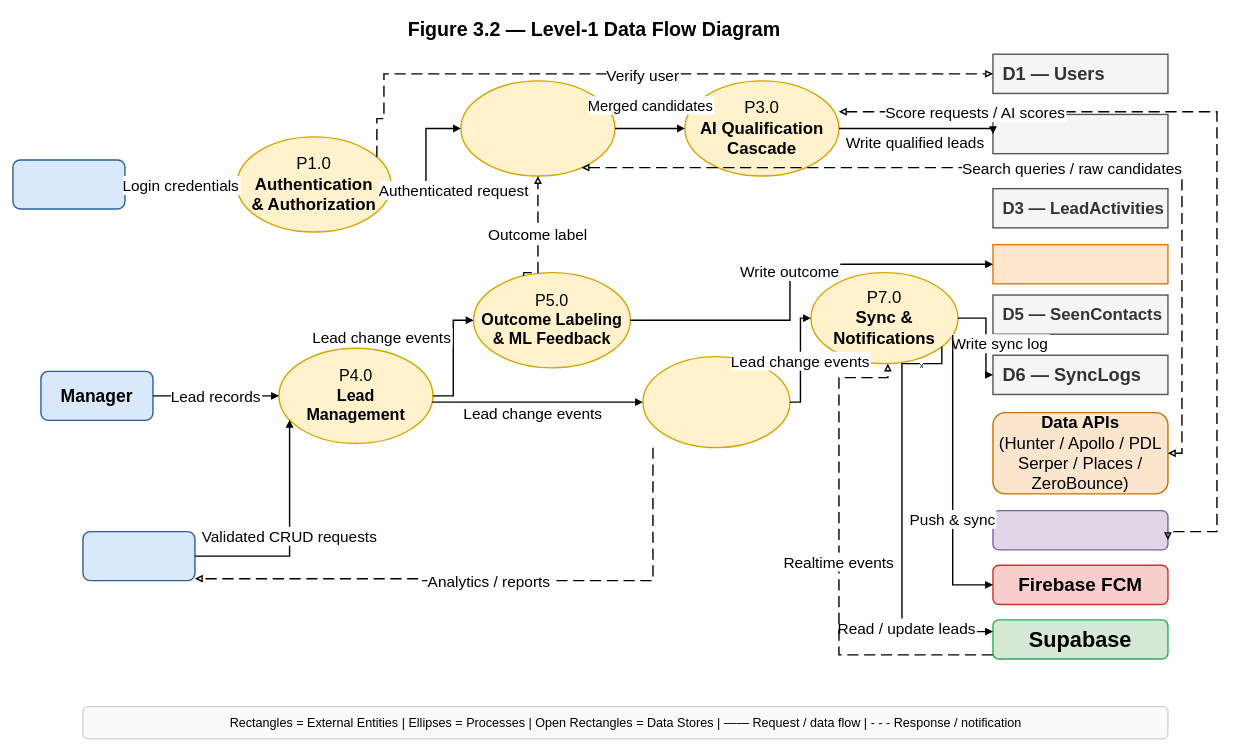
Some shapes in this 1236 by 751 pixel diagram are drawn without their labels. The shapes that lost their labels are listed below. From the top down, each one's centre as x and y in pixels, then its label:
At pixel 537 128: "P2.0 Lead Collection Orchestrator".
At pixel 1080 133: "D2 — Leads".
At pixel 68 184: "Sales User".
At pixel 1080 264: "D4 — LeadOutcomes".
At pixel 716 402: "P6.0 Analytics Engine".
At pixel 1080 530: "Gemini + Groq".
At pixel 138 556: "Administrator".
